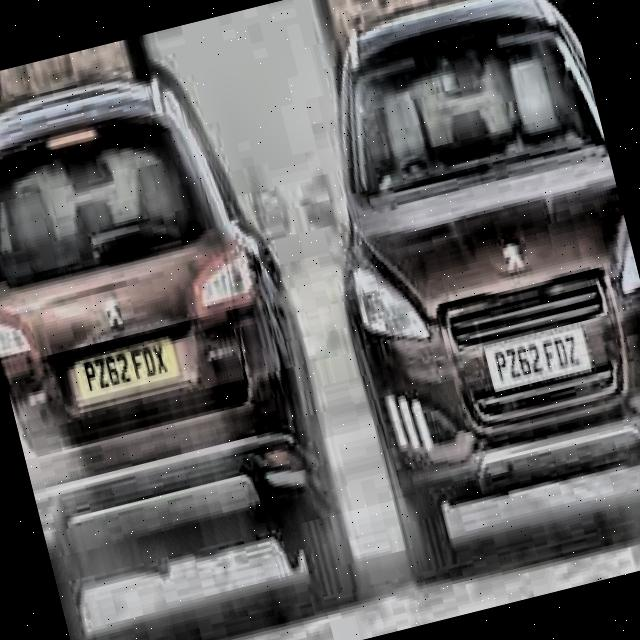license_plate: (73, 331, 178, 402), (487, 326, 588, 396)
